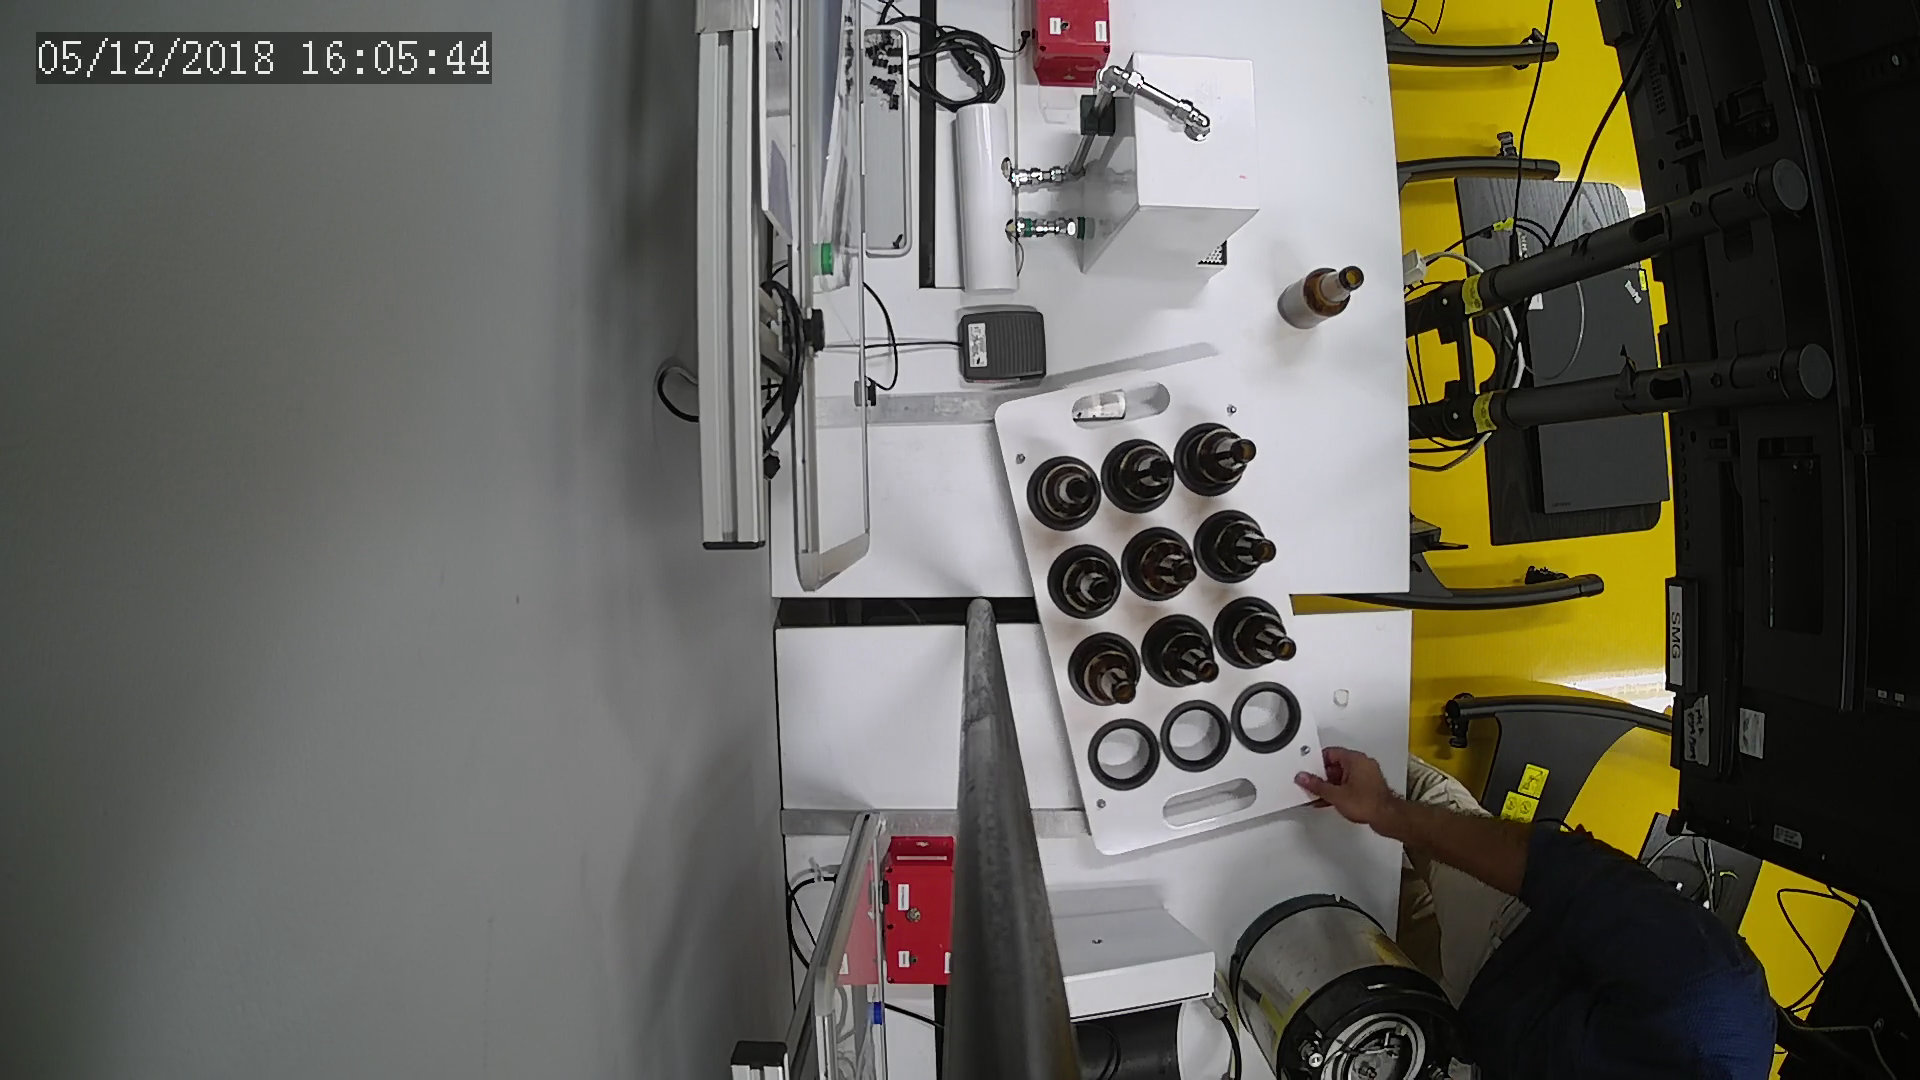filled_bottle: (1026, 455, 1106, 535), (1098, 440, 1179, 520), (1178, 422, 1261, 498), (1215, 595, 1299, 670), (1199, 506, 1279, 584), (1051, 543, 1124, 626), (1147, 613, 1222, 691), (1122, 526, 1199, 601), (1068, 634, 1143, 709)
trolley: (997, 353, 1335, 857)
unfilled_bottle: (1276, 265, 1366, 332)
